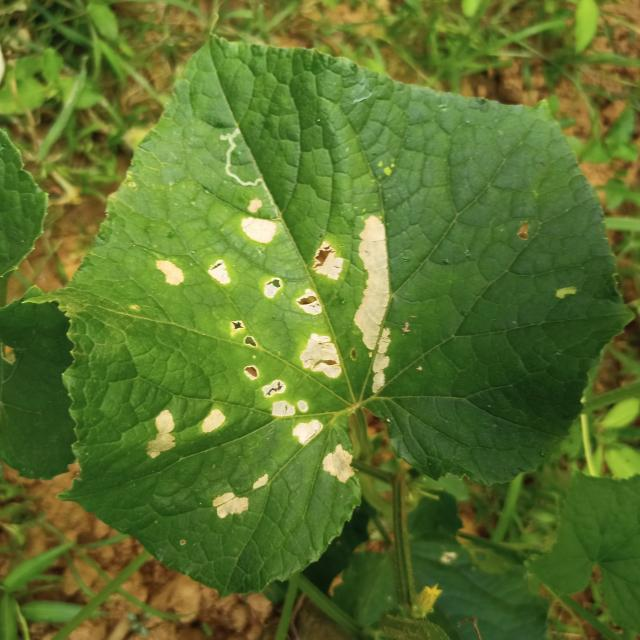disease_cucumber: (149, 194, 392, 487), (145, 399, 227, 463), (211, 470, 271, 520)
